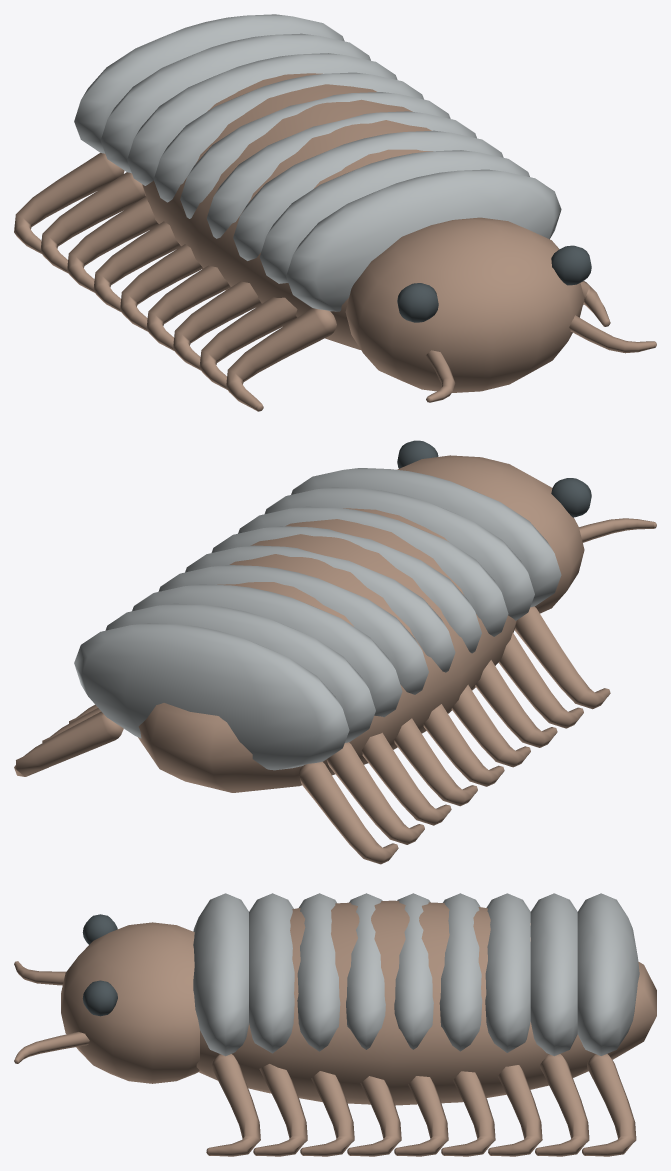
Rendered from open-ocean-and-deep-sea-life-giant-isopod-024a92ce__5893.glb.
3 renders of one model, top to bottom at view 1: azimuth 30°, elevation 25°; view 2: azimuth 150°, elevation 25°; view 3: azimuth 270°, elevation 25°, orthographic. The views are drawn at different scales.
Parts seen in each view (by area): view 1: giant-isopod; view 2: giant-isopod; view 3: giant-isopod.
Part boxes in pixels (x1=…): giant-isopod: x1=14, y1=14, x2=656, y2=411; giant-isopod: x1=14, y1=440, x2=656, y2=864; giant-isopod: x1=14, y1=893, x2=656, y2=1156.
Bounding box in the file's own units: 0.2368 × 0.1168 × 0.4.
